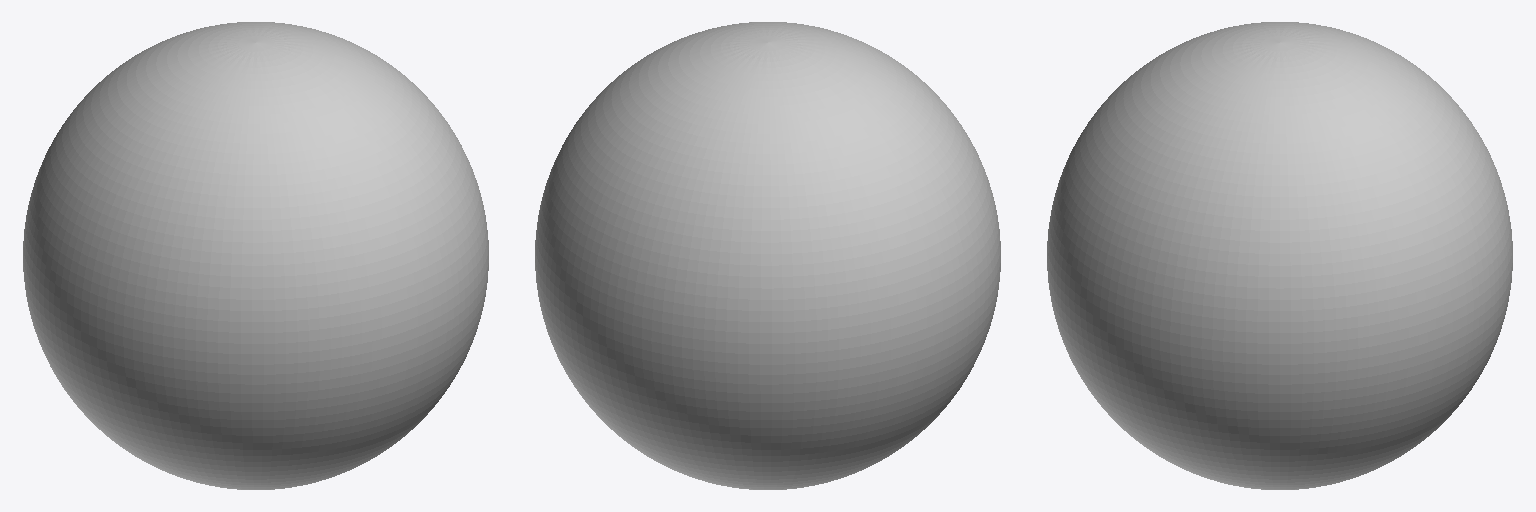
The model's file is mercury.obj.
The picture shows the model from 3 angles: view 1: azimuth 30°, elevation 25°; view 2: azimuth 150°, elevation 25°; view 3: azimuth 270°, elevation 25°; orthographic projection.
Parts seen in each view (by area): view 1: Sphere; view 2: Sphere; view 3: Sphere.
Boxes of the visible parts, box(x1,y1,x2,y2) form: Sphere: box(23, 22, 488, 489); Sphere: box(535, 22, 1000, 489); Sphere: box(1047, 22, 1512, 489).
Size of the model in its own units: 1.97 by 2 by 1.97.